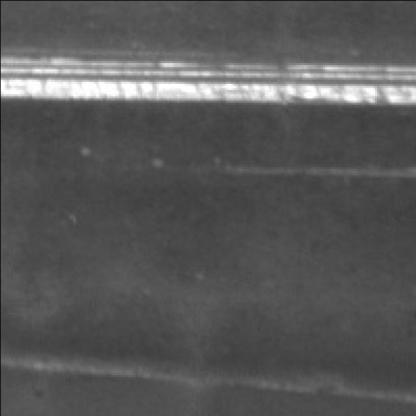scratches: (4, 347, 406, 406), (0, 48, 414, 102), (198, 149, 412, 175)
